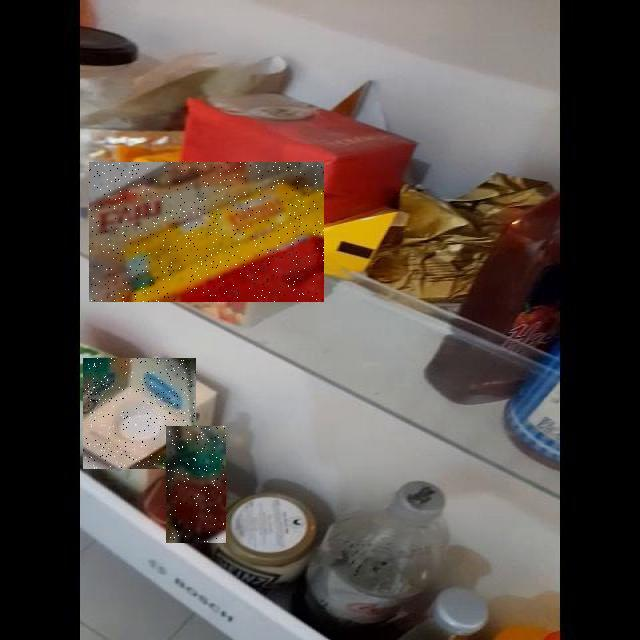Butter: (89, 162, 324, 302)
Milk: (83, 358, 196, 469)
Sauce: (167, 426, 227, 543)
